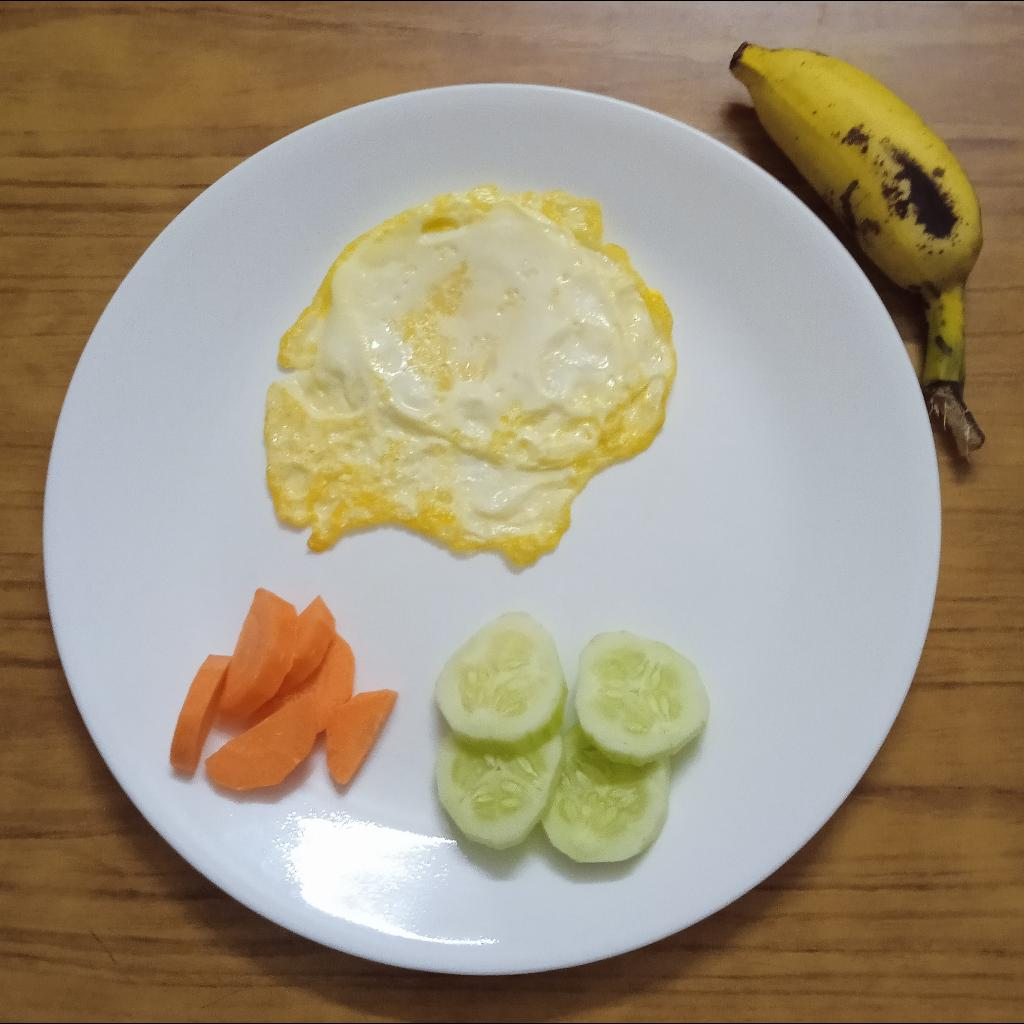banana: (729, 41, 982, 384)
carrot: (168, 587, 397, 793)
cucumber: (434, 611, 712, 863)
egg-poached: (265, 184, 679, 568)
